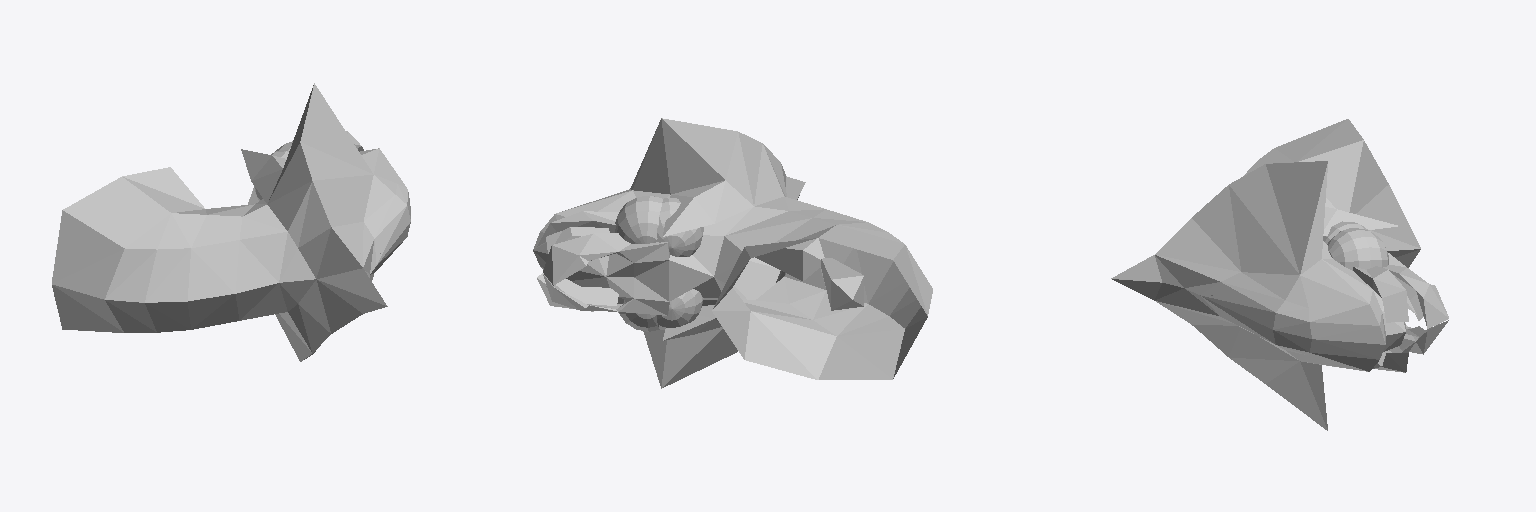
The model's file is Elite Head Variant.obj.
3 views of the same model, side by side, from view 1: azimuth 30°, elevation 25°; view 2: azimuth 150°, elevation 25°; view 3: azimuth 270°, elevation 25° (orthographic).
Parts seen in each view (by area): view 1: head; view 2: head, frame_mandible_upper_left, bip01_neck, bip01_neck1, frame_mandible_lower_left, frame_mandible_lower_right, frame_mandible_upper_right; view 3: head, frame_mandible_upper_left.
Part boxes in pixels (x1,y1,x2,y2): head: (52, 83, 410, 361); head: (533, 118, 932, 388); frame_mandible_upper_left: (615, 196, 662, 243); bip01_neck: (821, 258, 863, 310); bip01_neck1: (755, 238, 824, 280); frame_mandible_lower_left: (657, 198, 703, 256); frame_mandible_lower_right: (657, 289, 703, 329); frame_mandible_upper_right: (617, 297, 659, 331); head: (1111, 119, 1448, 430); frame_mandible_upper_left: (1327, 228, 1388, 270).
Size of the model in its own units: 24.51 by 17.4 by 19.75.